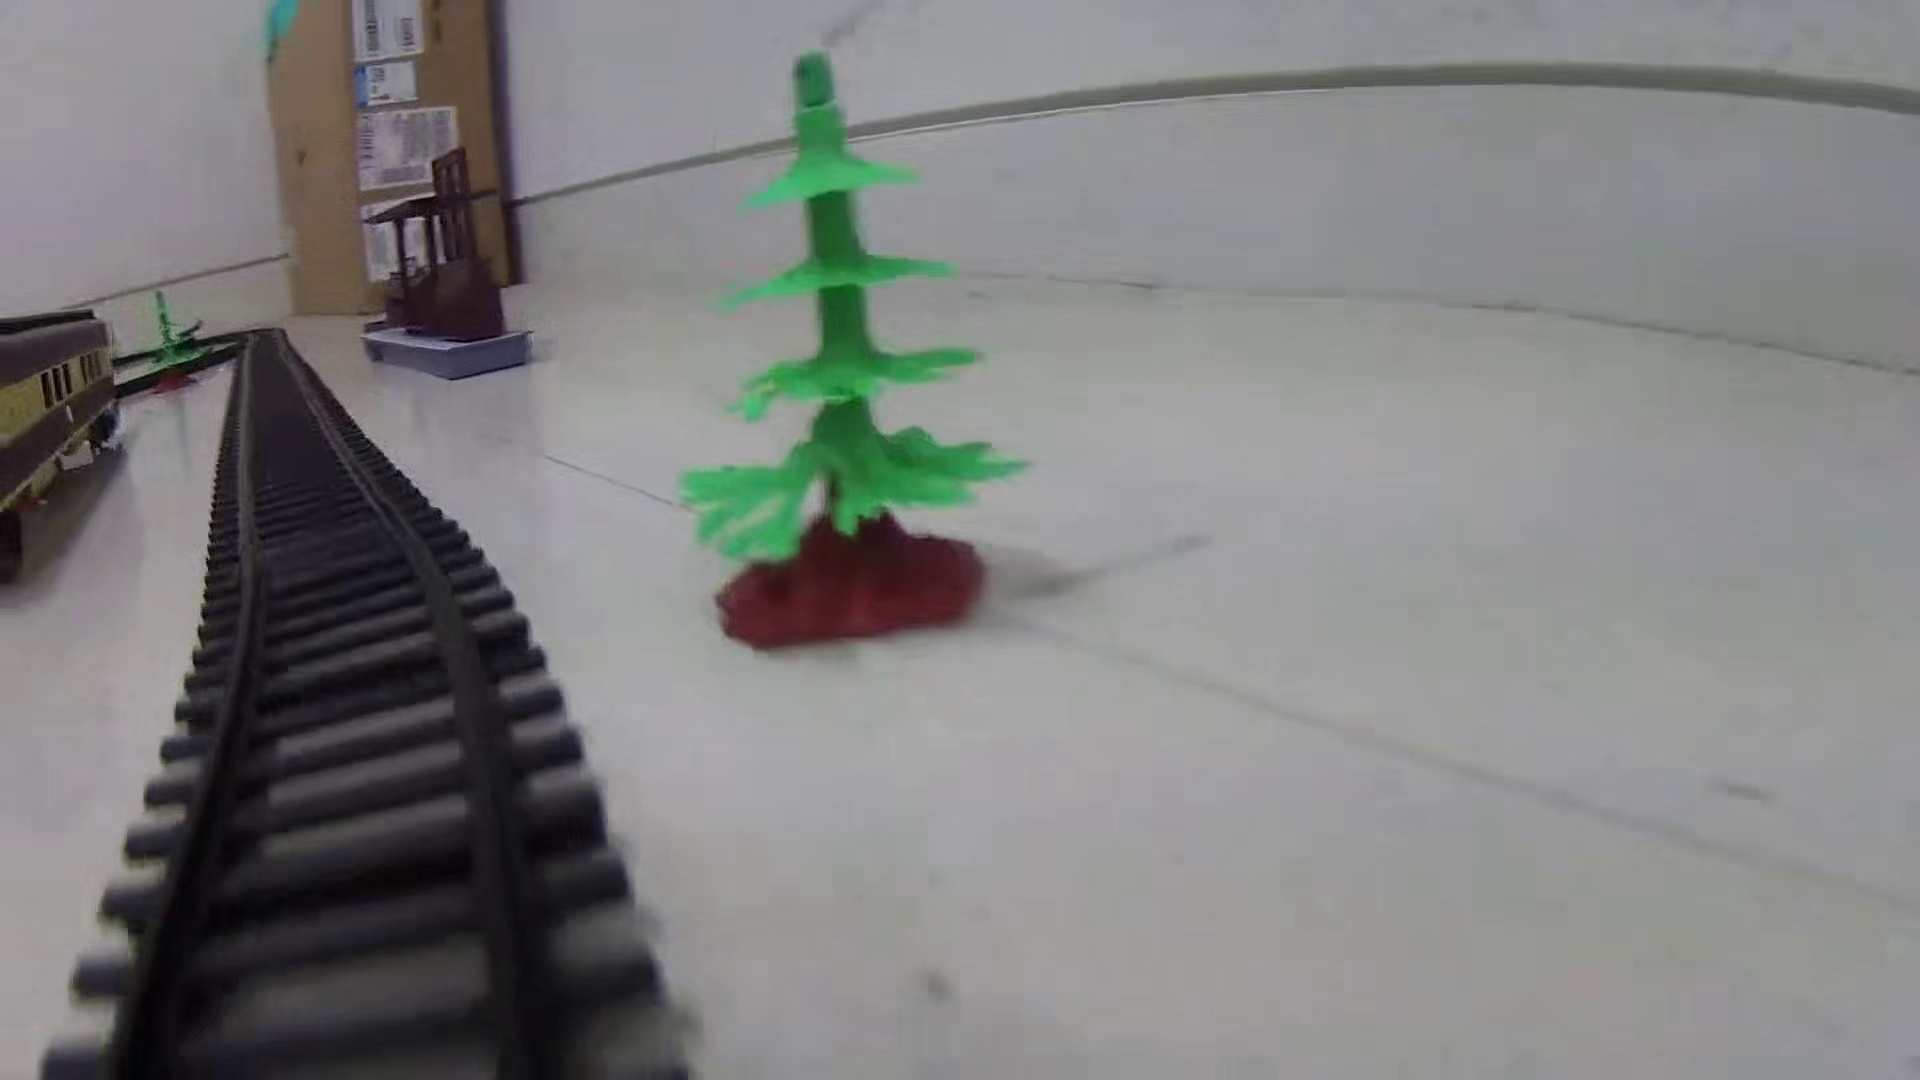tree: (679, 51, 1034, 650), (143, 289, 205, 398)
